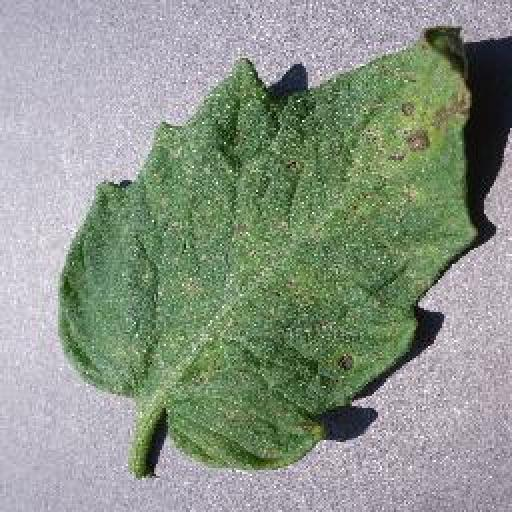Septoria: (61, 25, 483, 468)
